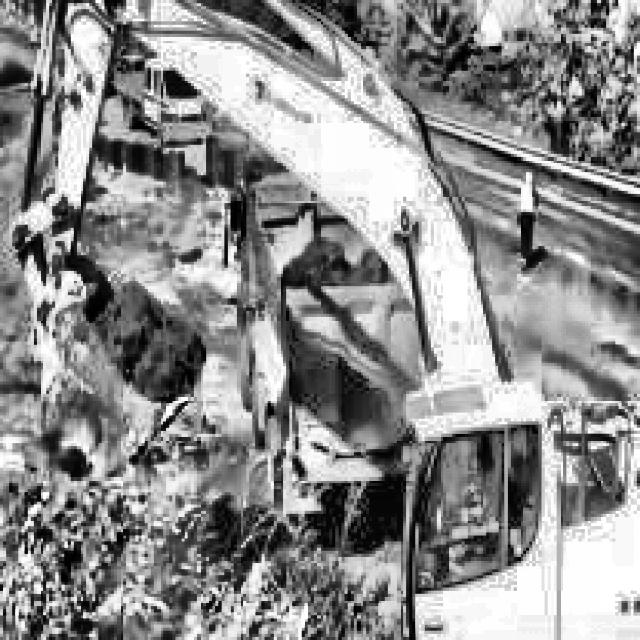dump_truck: (222, 169, 424, 548)
excavator: (6, 0, 640, 640)
